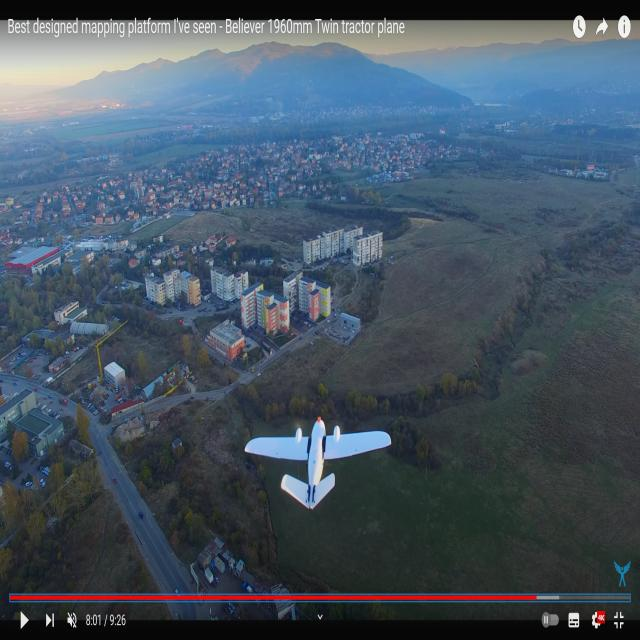iha: (244, 437, 392, 470)
